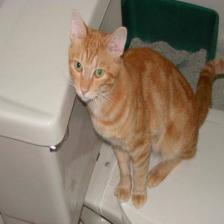cat: (66, 4, 135, 114)
